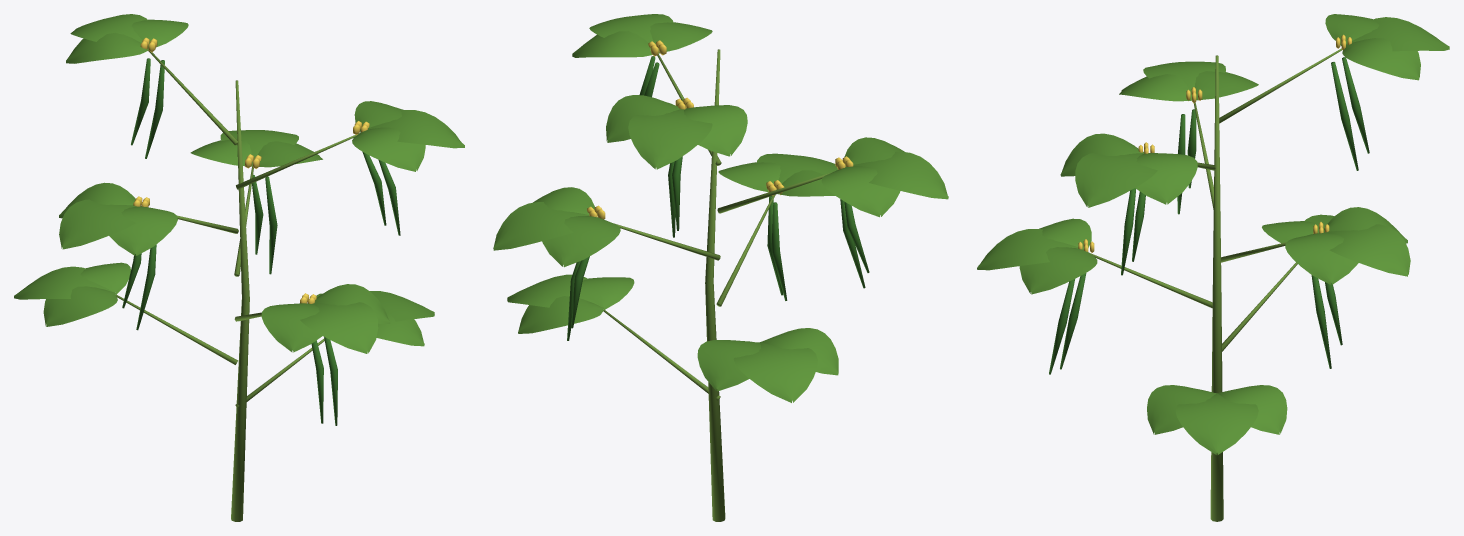
Rendered from mungbean.glb.
3 views of the same model, side by side, from view 1: azimuth 30°, elevation 25°; view 2: azimuth 150°, elevation 25°; view 3: azimuth 270°, elevation 25° (orthographic). The views are drawn at different scales.
Parts seen in each view (by area): view 1: Mungbean_Trifoliate_Leaflets, Mungbean_Branching_Stem, Mungbean_Long_Slender_Pods, Mungbean_Small_Yellow_Flowers; view 2: Mungbean_Trifoliate_Leaflets, Mungbean_Branching_Stem, Mungbean_Long_Slender_Pods, Mungbean_Small_Yellow_Flowers; view 3: Mungbean_Trifoliate_Leaflets, Mungbean_Branching_Stem, Mungbean_Long_Slender_Pods, Mungbean_Small_Yellow_Flowers.
Boxes of the visible parts, bbox=[...] form: Mungbean_Trifoliate_Leaflets: bbox=[14, 14, 464, 353]; Mungbean_Branching_Stem: bbox=[116, 50, 359, 521]; Mungbean_Long_Slender_Pods: bbox=[122, 58, 400, 425]; Mungbean_Small_Yellow_Flowers: bbox=[133, 37, 369, 303]; Mungbean_Trifoliate_Leaflets: bbox=[493, 14, 948, 402]; Mungbean_Branching_Stem: bbox=[603, 49, 831, 521]; Mungbean_Long_Slender_Pods: bbox=[567, 56, 869, 340]; Mungbean_Small_Yellow_Flowers: bbox=[587, 40, 853, 219]; Mungbean_Trifoliate_Leaflets: bbox=[977, 14, 1449, 454]; Mungbean_Branching_Stem: bbox=[1089, 48, 1341, 521]; Mungbean_Long_Slender_Pods: bbox=[1049, 57, 1369, 374]; Mungbean_Small_Yellow_Flowers: bbox=[1078, 34, 1351, 252].
Bounding box in the file's own units: 1.39 × 1.5 × 1.37.
